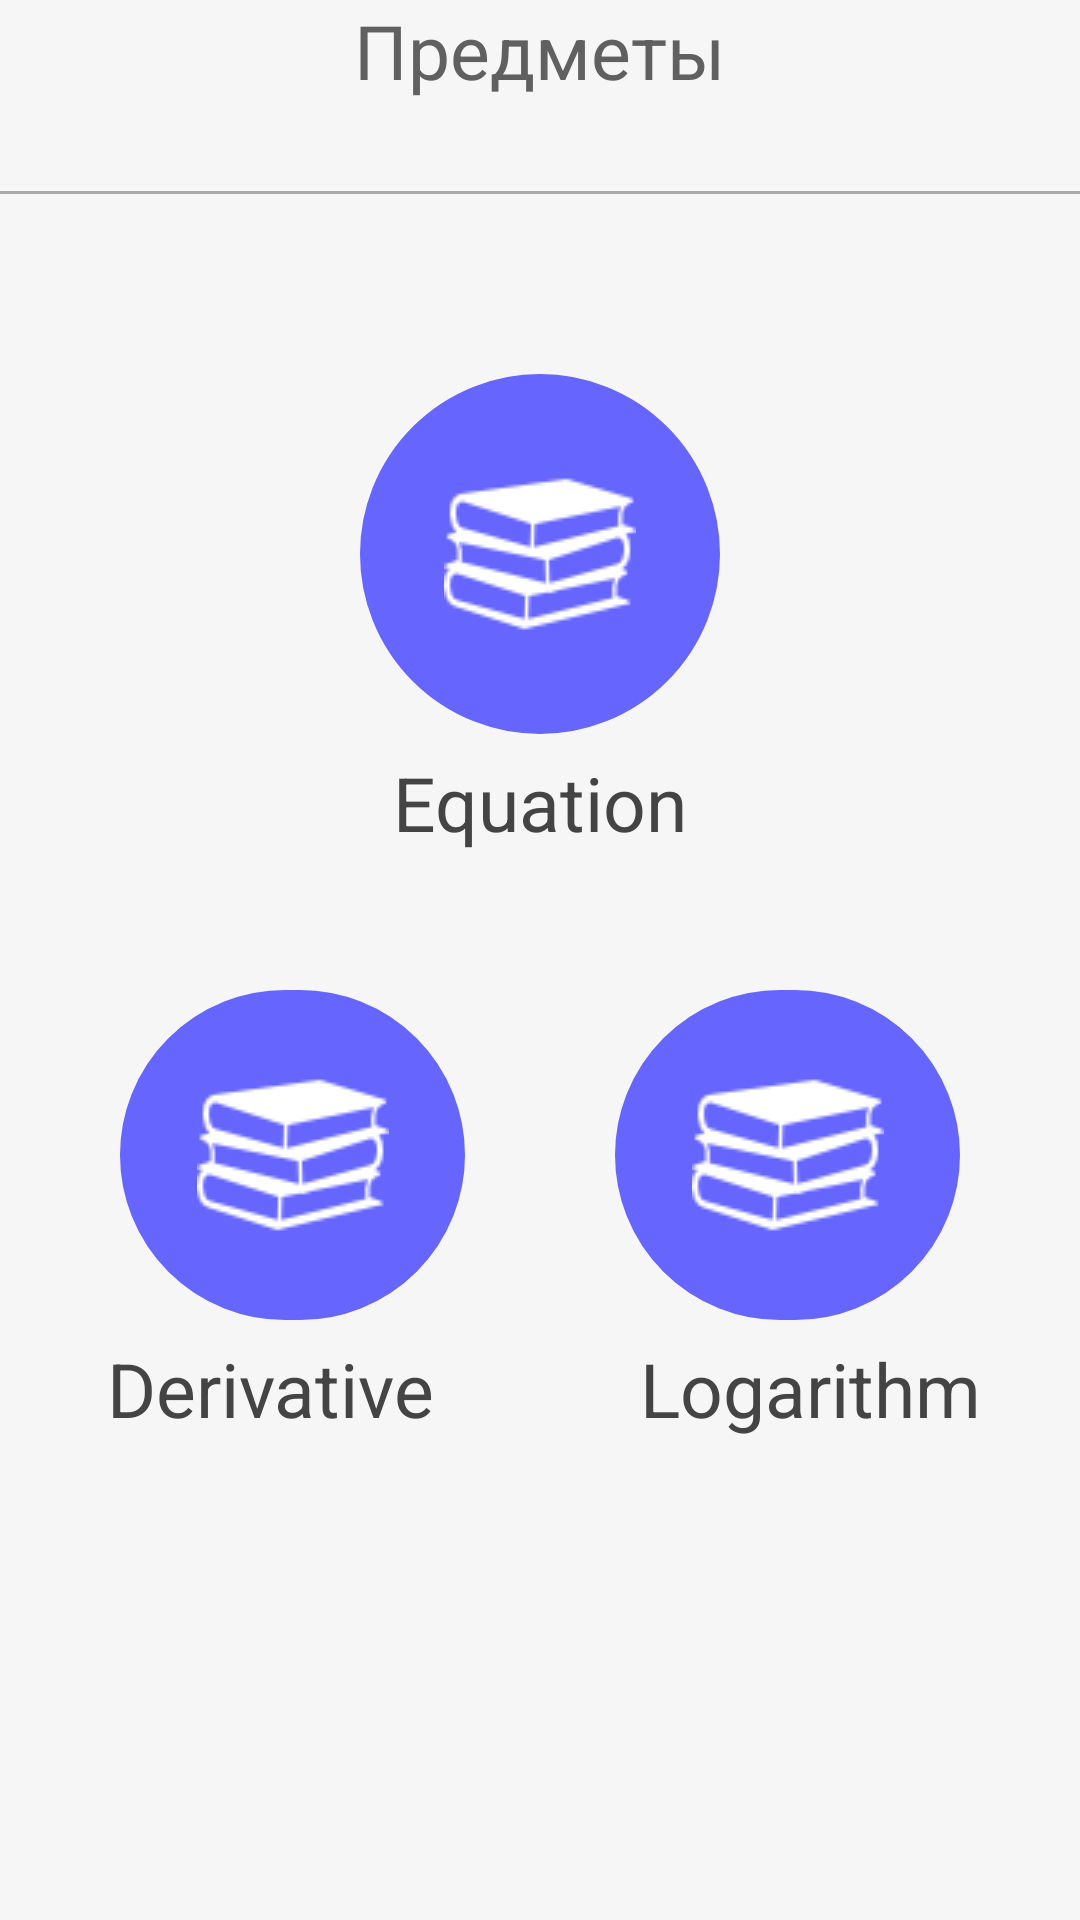

Locate icon controls on the screen. Image size 1080x1920, boxes as (x1, y1, x2, y2).
three book: (360, 374, 720, 734), (120, 990, 465, 1320), (615, 990, 960, 1320)
